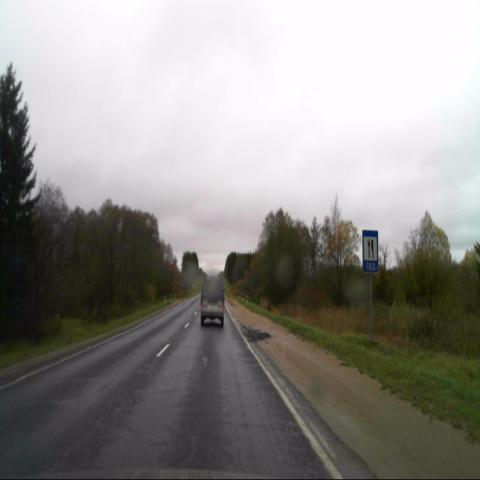7_7: (362, 229, 379, 273)
